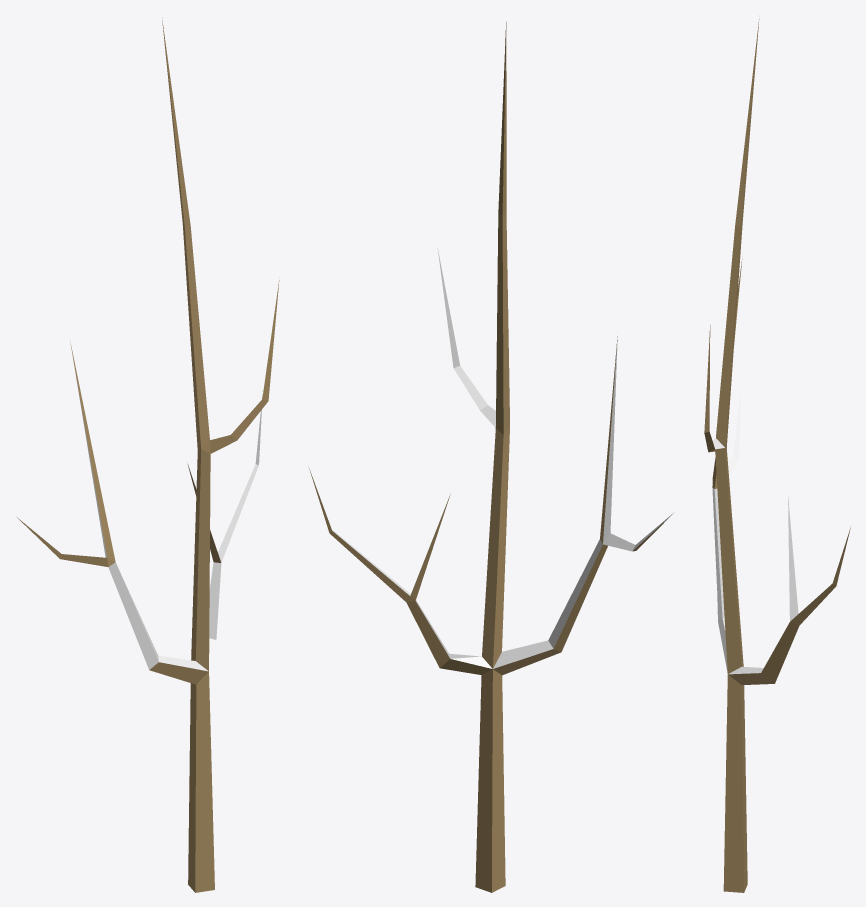
The model's file is Random_Tree_NoLeaves_s_Snow_02_LOD.fbx.
3 views of the same model, side by side, from view 1: azimuth 30°, elevation 25°; view 2: azimuth 150°, elevation 25°; view 3: azimuth 270°, elevation 25° (orthographic). The views are drawn at different scales.
Parts seen in each view (by area): view 1: Random_Tree_NoLeaves_s_Snow_02_LOD0; view 2: Random_Tree_NoLeaves_s_Snow_02_LOD0; view 3: Random_Tree_NoLeaves_s_Snow_02_LOD0.
Boxes of the visible parts, bbox=[...] form: Random_Tree_NoLeaves_s_Snow_02_LOD0: bbox=[17, 18, 279, 892]; Random_Tree_NoLeaves_s_Snow_02_LOD0: bbox=[309, 22, 673, 892]; Random_Tree_NoLeaves_s_Snow_02_LOD0: bbox=[704, 19, 850, 892].
Size of what is drawn, in the model's own units: 133 by 362 by 56.18.
